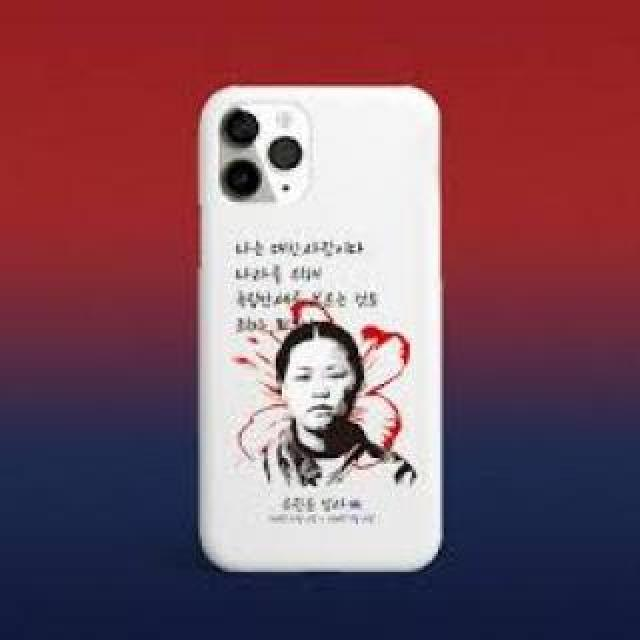smart phone: (180, 52, 488, 595)
